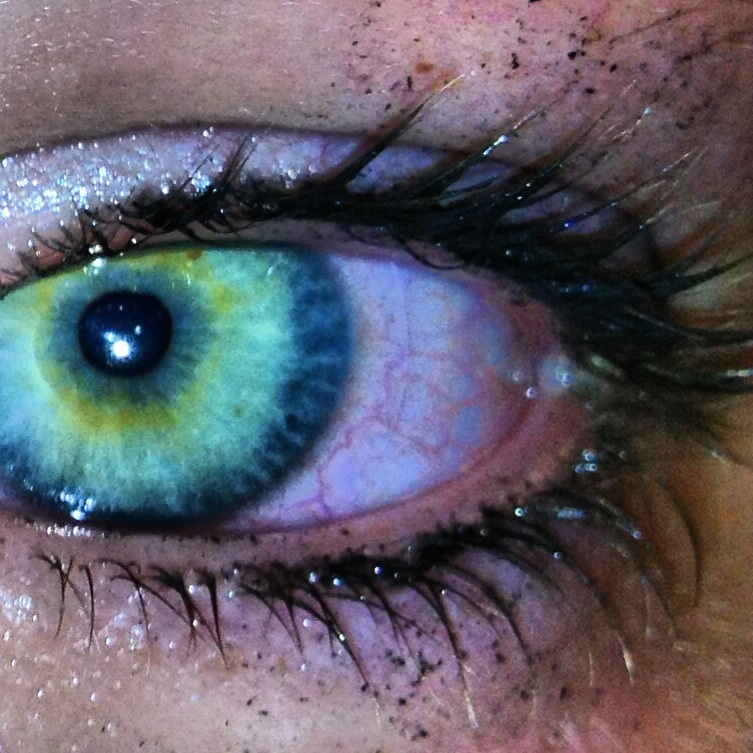iris: (0, 214, 354, 526)
pupil: (77, 289, 173, 381)
